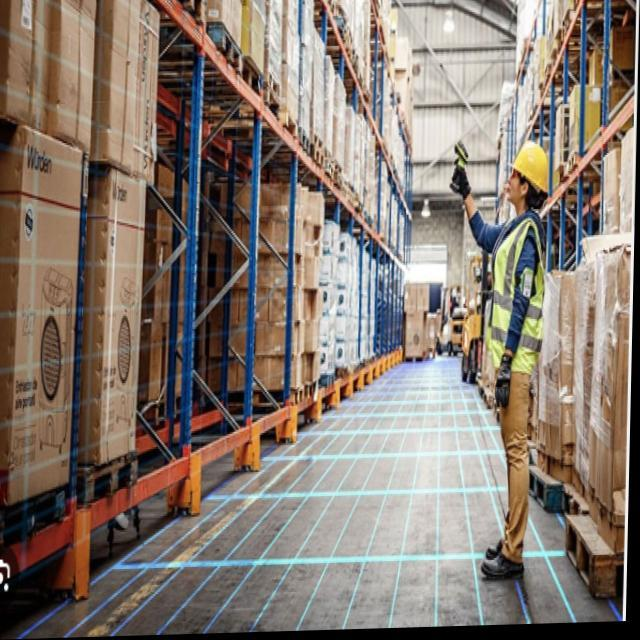hard_hat: (509, 143, 556, 217)
shoes: (477, 537, 529, 584)
vest: (487, 217, 550, 379)
